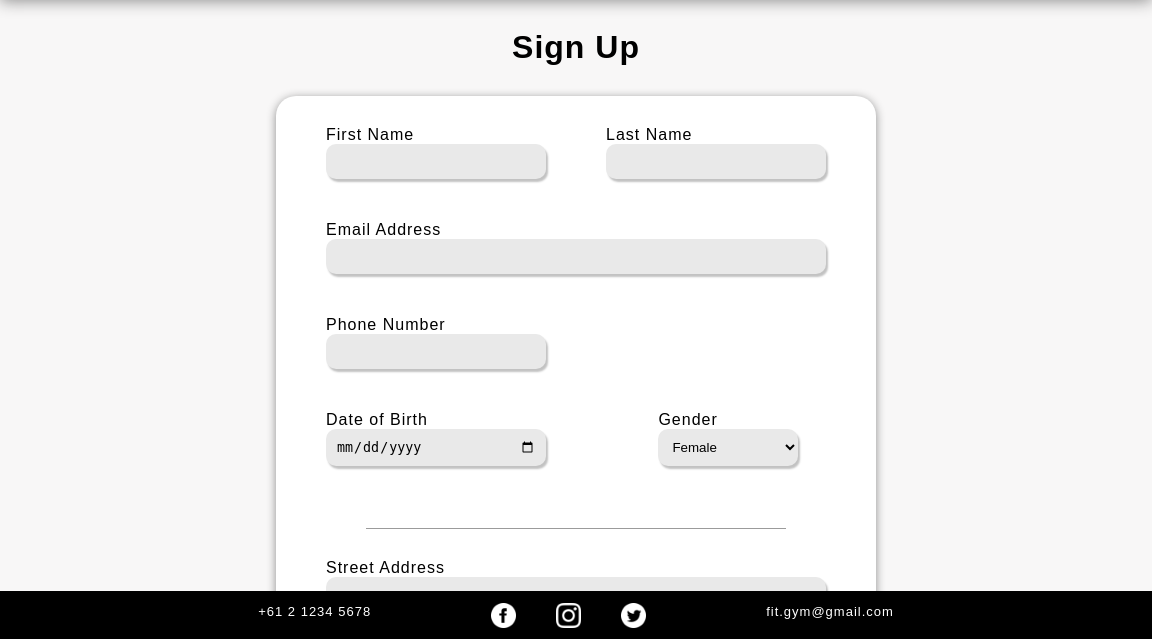
Test: Ensures sign up form inputs meet minimum requirements › Displays error if inputted dob makes user younger than 16
Type "2010-01-01" into the date field labelled "Date of Birth" at (436, 448), box x1=326 y1=429 x2=546 y2=466
(page scrolled)
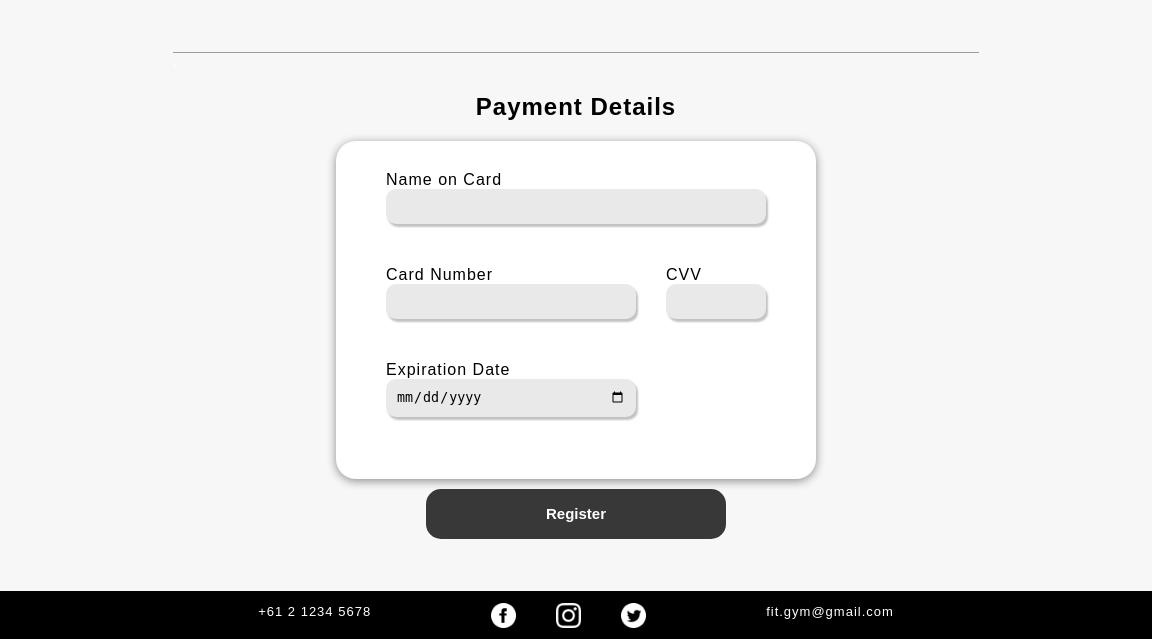
Click the button "Register" at (576, 514), box x1=426 y1=489 x2=726 y2=539
(page scrolled)
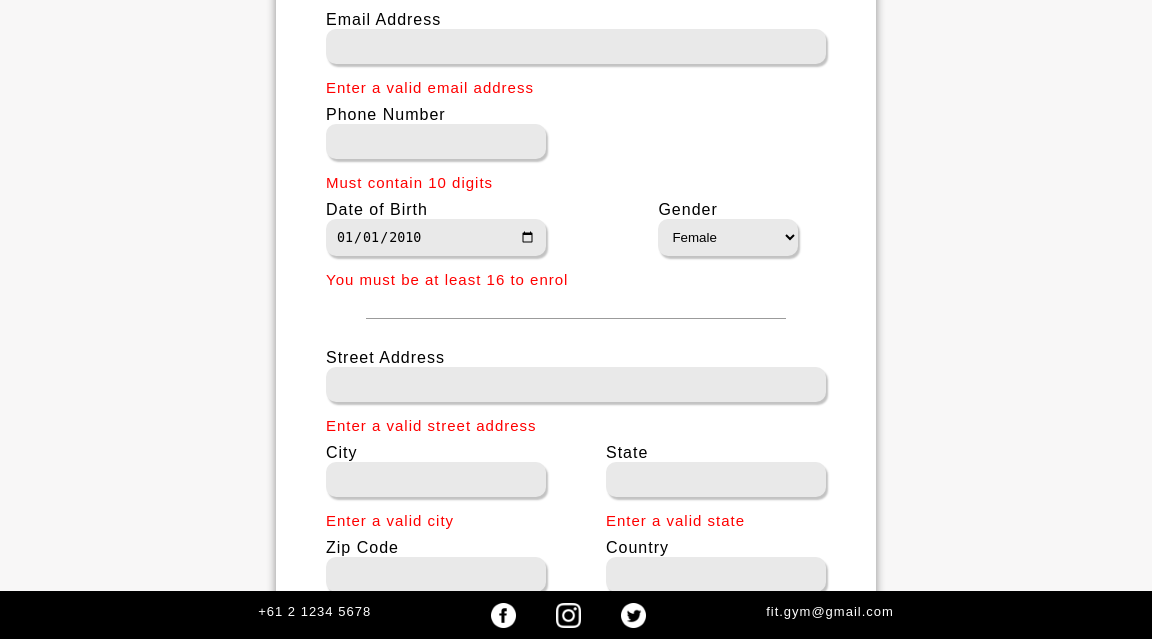
Now the text "You must be at least 16 to enrol" is shown, box x1=326 y1=271 x2=568 y2=288
